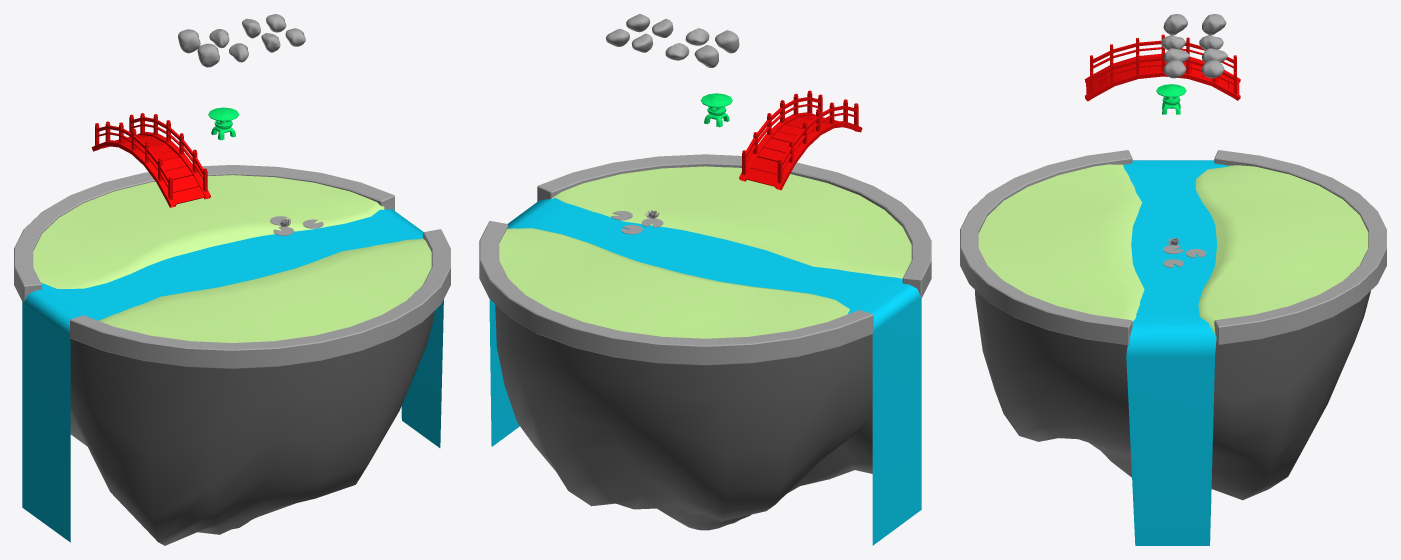
File: SM_Envirment.fbx
The picture shows the model from 3 angles, left to right: view 1: azimuth 30°, elevation 25°; view 2: azimuth 150°, elevation 25°; view 3: azimuth 270°, elevation 25°; orthographic projection. The views are drawn at different scales.
Visible parts, largest first — view 1: SM_BigRock1, SM_Ground1, SM_Water1, SM_Fense1, SM_Bridge, SM_Lantern; view 2: SM_BigRock1, SM_Ground1, SM_Water1, SM_Fense1, SM_Bridge, SM_Lantern; view 3: SM_Ground1, SM_BigRock1, SM_Water1, SM_Fense1, SM_Bridge, SM_Lantern.
Boxes of the visible parts, left/top/right/bottom form: SM_BigRock1: left=70, top=311, right=434, bottom=545; SM_Ground1: left=33, top=175, right=431, bottom=342; SM_Water1: left=22, top=209, right=443, bottom=542; SM_Fense1: left=14, top=165, right=450, bottom=368; SM_Bridge: left=91, top=113, right=210, bottom=207; SM_Lantern: left=208, top=107, right=239, bottom=140; SM_BigRock1: left=495, top=305, right=872, bottom=530; SM_Ground1: left=499, top=166, right=911, bottom=338; SM_Water1: left=489, top=198, right=921, bottom=545; SM_Fense1: left=479, top=154, right=931, bottom=365; SM_Bridge: left=739, top=90, right=862, bottom=190; SM_Lantern: left=700, top=93, right=732, bottom=127; SM_Ground1: left=978, top=164, right=1368, bottom=334; SM_BigRock1: left=974, top=289, right=1370, bottom=500; SM_Water1: left=1123, top=160, right=1228, bottom=545; SM_Fense1: left=960, top=150, right=1386, bottom=345; SM_Bridge: left=1084, top=34, right=1240, bottom=101; SM_Lantern: left=1156, top=84, right=1186, bottom=114.
Bounding box in the file's own units: 20.21 × 24.68 × 20.43.
